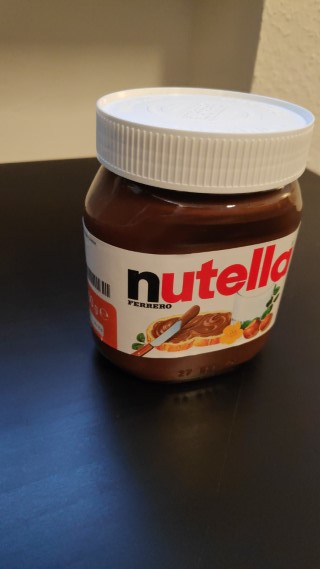nutella: (81, 84, 316, 384)
